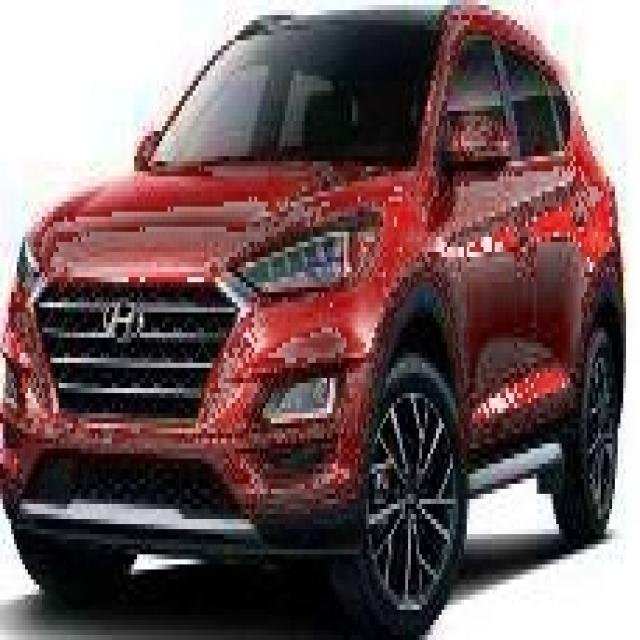maroon: (11, 20, 626, 565)
